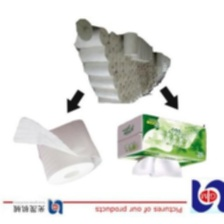tissue: (69, 14, 177, 110), (9, 111, 108, 190), (114, 111, 211, 172), (128, 153, 187, 183)
